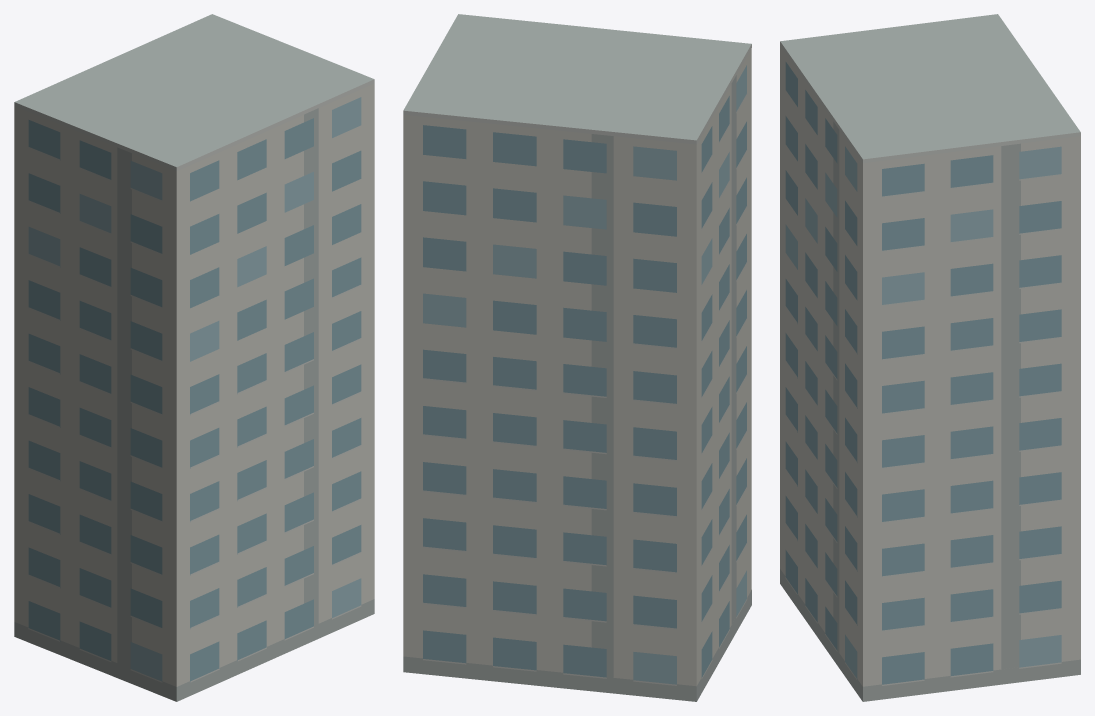
The model's file is residential-a699d57f-5e06-453b-a1dd-4f05ce194cce.glb.
The picture shows the model from 3 angles, left to right: view 1: azimuth 30°, elevation 25°; view 2: azimuth 150°, elevation 25°; view 3: azimuth 270°, elevation 25°; orthographic projection. The views are drawn at different scales.
Parts seen in each view (by area): view 1: residential-a699d57f-5e06-453b-a1dd-4f05ce194cce.tmp; view 2: residential-a699d57f-5e06-453b-a1dd-4f05ce194cce.tmp; view 3: residential-a699d57f-5e06-453b-a1dd-4f05ce194cce.tmp.
Part boxes in pixels (x1,y1,x2,y2): residential-a699d57f-5e06-453b-a1dd-4f05ce194cce.tmp: (14, 14, 374, 701); residential-a699d57f-5e06-453b-a1dd-4f05ce194cce.tmp: (403, 14, 751, 701); residential-a699d57f-5e06-453b-a1dd-4f05ce194cce.tmp: (780, 14, 1080, 701).
Size of the model in its own units: 18.97 by 33 by 16.59.
